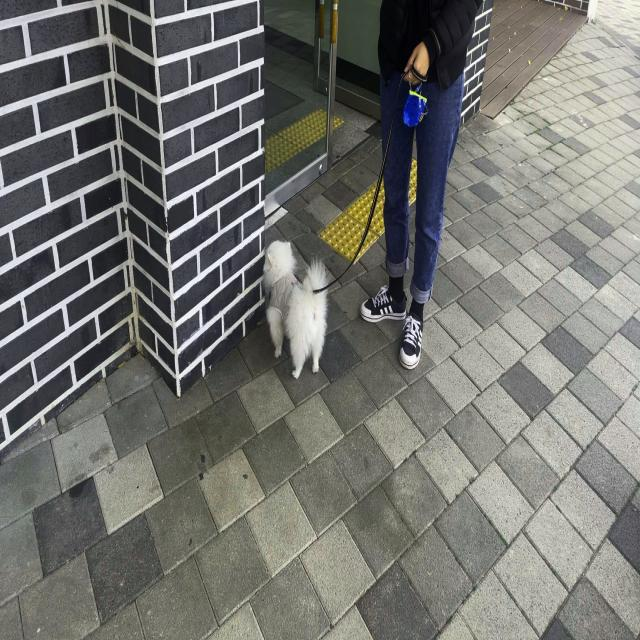Leashed_Dog: (264, 40, 422, 378)
